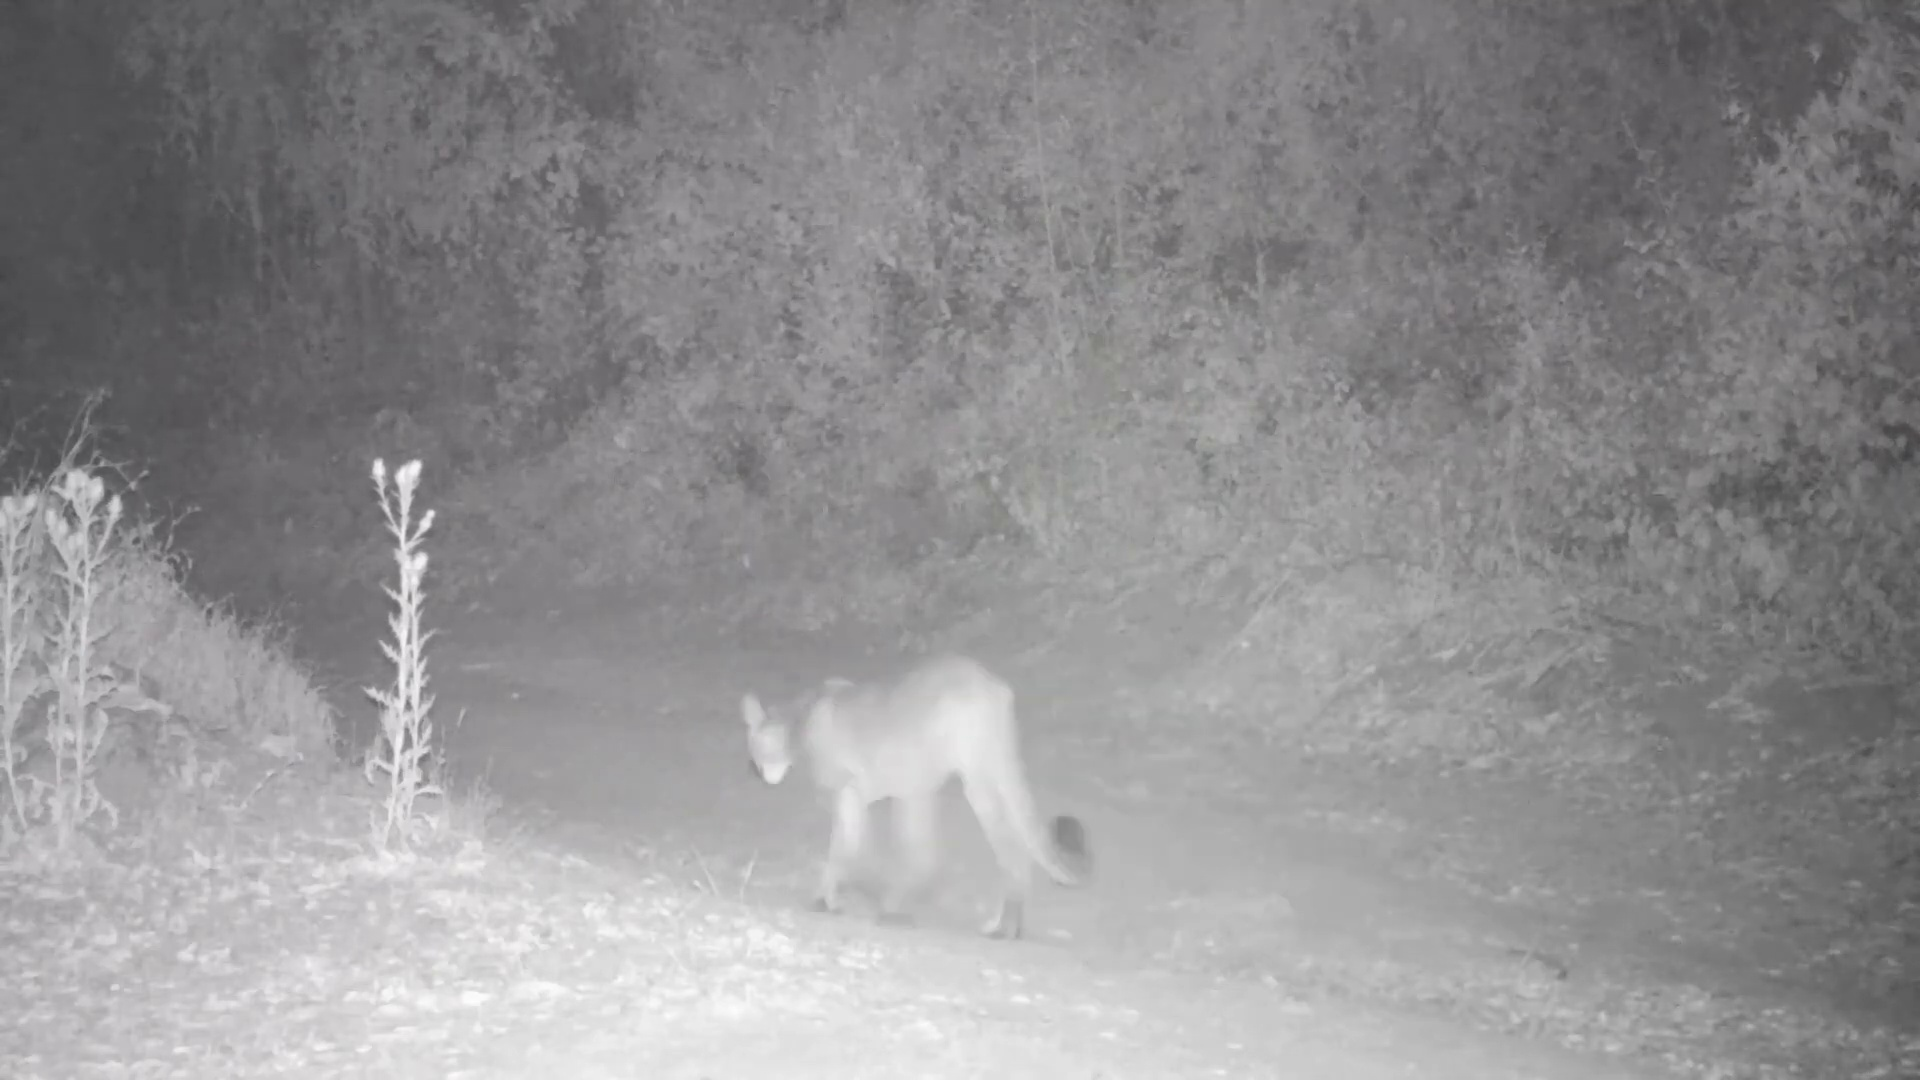Lion: (740, 653, 1091, 940)
